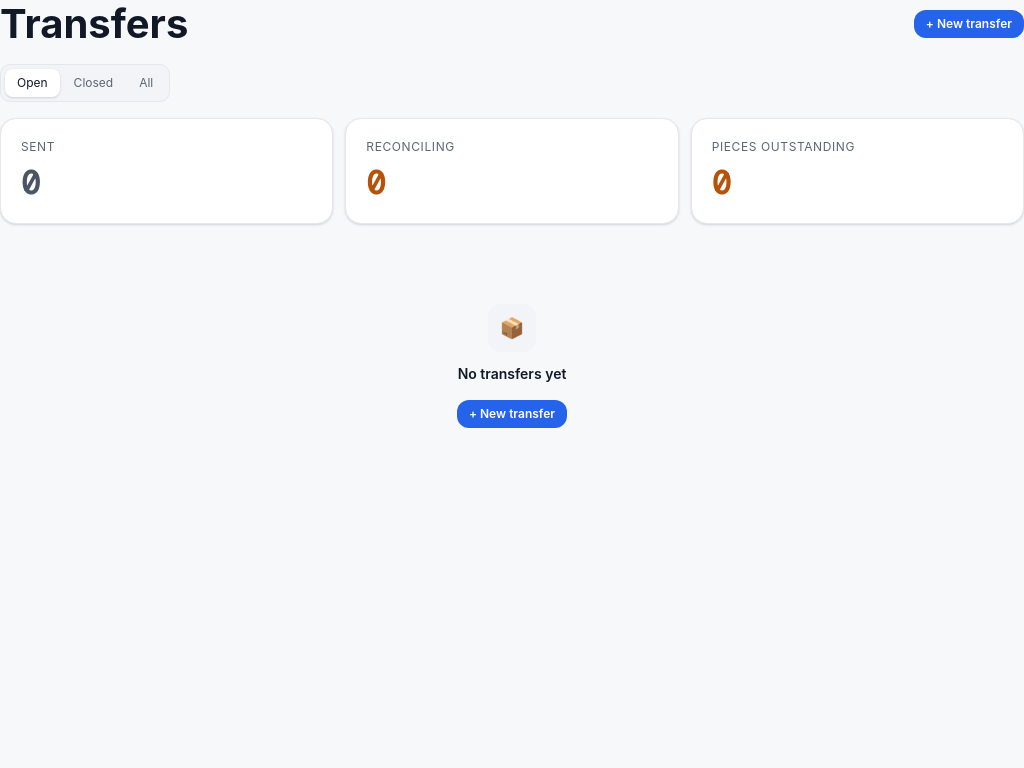
Scenario: Transfers — "+ New transfer" chooser › nc5 — empty-state button behaves like the header button (opens the chooser)
Expected: the text "No transfers yet" is shown, [458,364,566,384]
Click the button "+ New transfer" below "No transfers yet" at {"x": 512, "y": 414}, box [457,400,567,428]
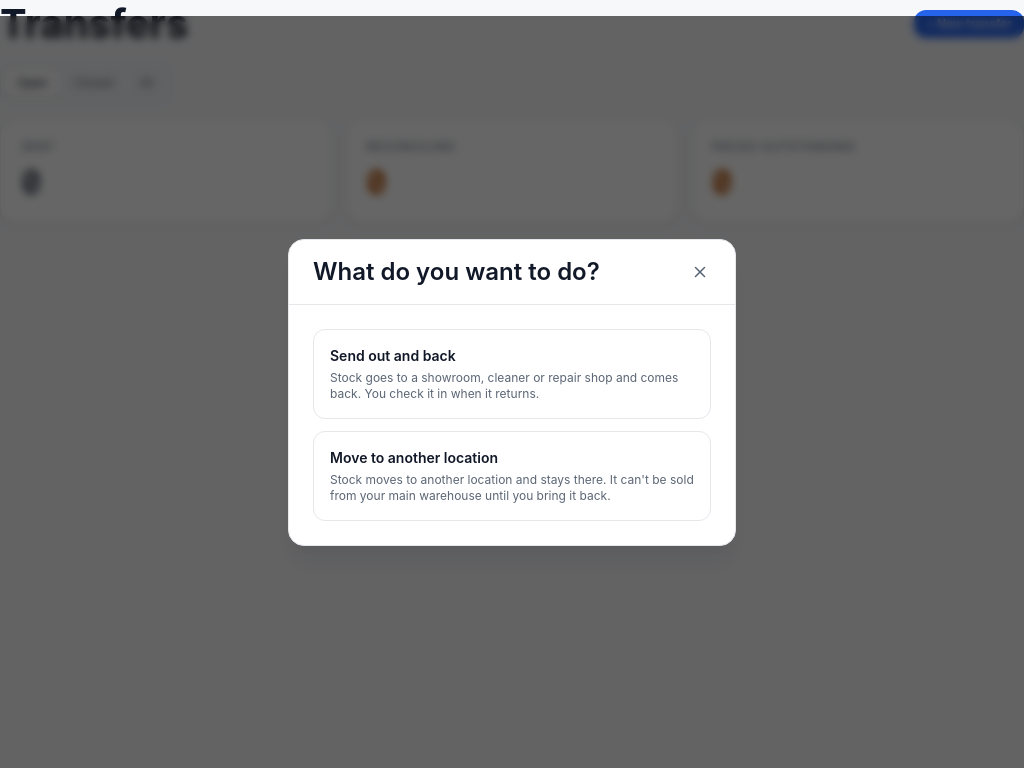
Expected: the element with test id "new-transfer-chooser" is shown, [313,328,711,520]
